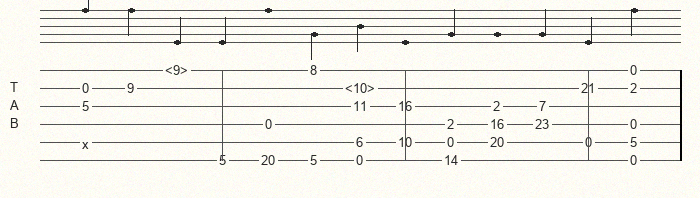0: (82, 81, 93, 95), (265, 117, 276, 131), (356, 153, 367, 167), (447, 135, 458, 149), (585, 135, 596, 149), (630, 63, 641, 77), (630, 117, 641, 131), (630, 153, 641, 167)
10: (398, 135, 416, 149)
11: (353, 99, 371, 113)
14: (444, 153, 462, 167)
16: (398, 99, 416, 113), (490, 117, 508, 131)
2: (447, 117, 458, 131), (493, 99, 504, 113), (630, 81, 641, 95)
20: (261, 153, 279, 167), (490, 135, 508, 149)
21: (581, 81, 599, 95)
23: (535, 117, 553, 131)
5: (82, 99, 93, 113), (219, 153, 230, 167), (310, 153, 321, 167), (630, 135, 641, 149)
6: (356, 135, 367, 149)
7: (539, 99, 550, 113)
8: (310, 63, 321, 77)
9: (127, 81, 138, 95)
harmonic: (345, 81, 379, 95), (165, 63, 192, 77)
x: (82, 137, 93, 148)
